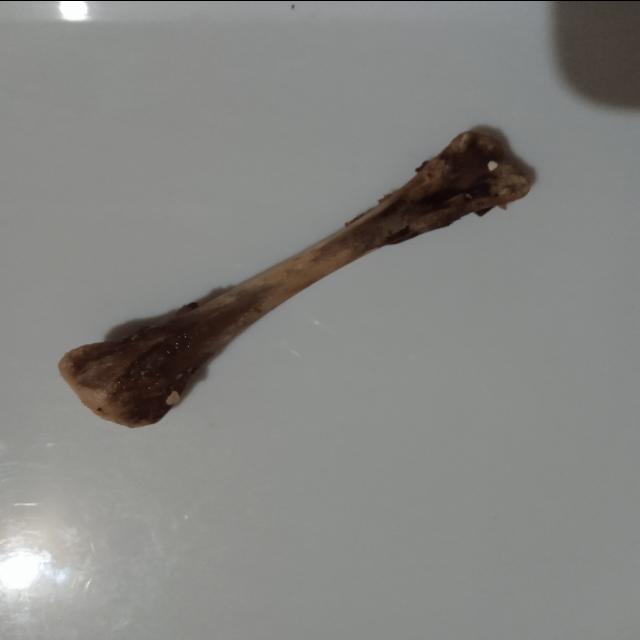bone: (51, 117, 545, 430)
